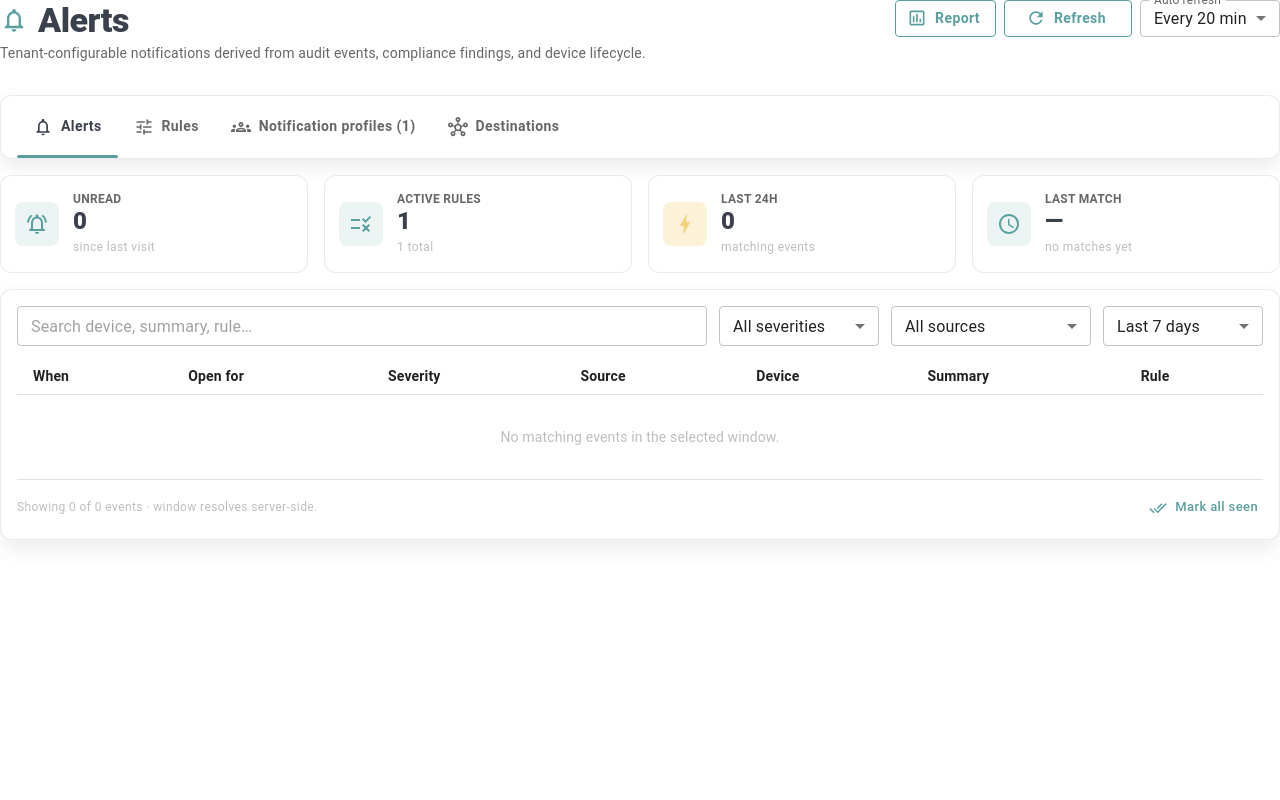
Test: Alerts — perfiles de notificaciones (ADR-0025) › ⚠️ un rol guardado que ya no existe se enseña marcado para quitarlo
Click the tab "Rules" at (166,127), box [118, 96, 215, 158]
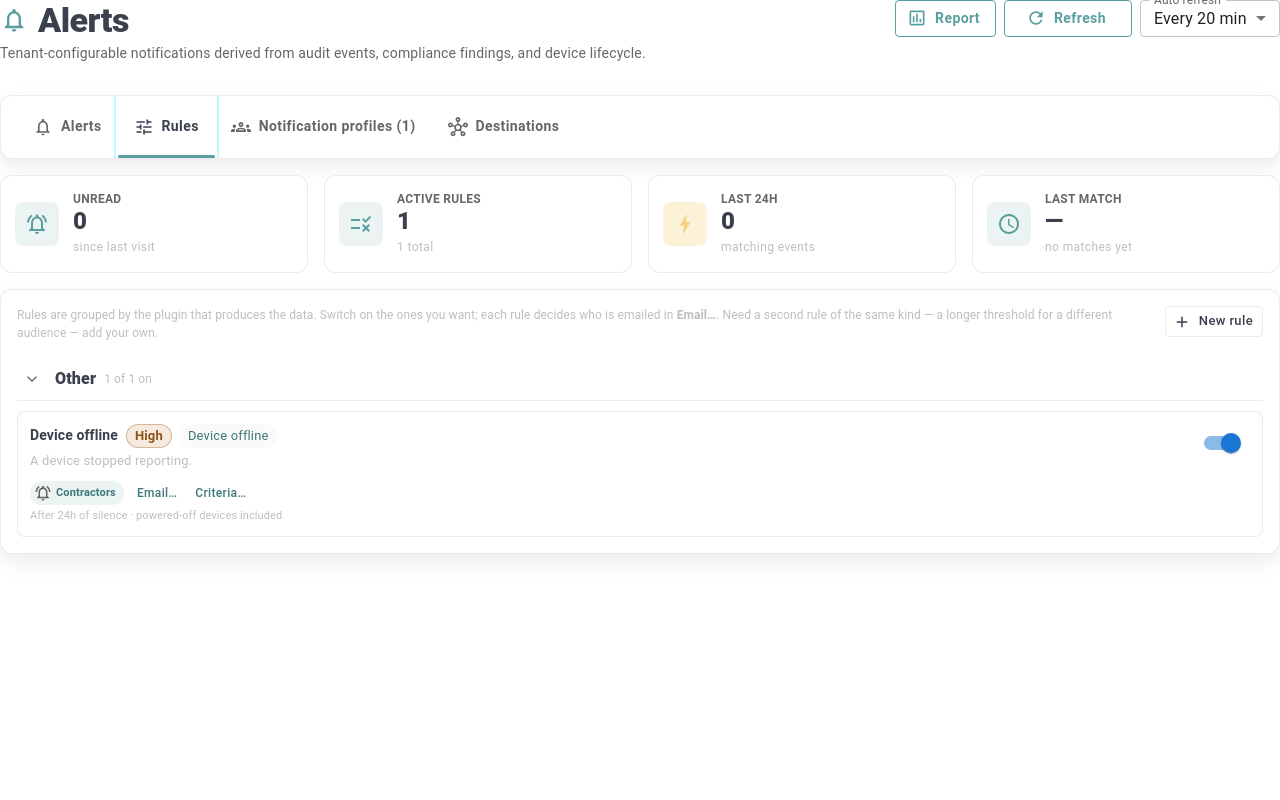
Click the button "Email…" at (157,493), box [132, 479, 182, 508]
(page scrolled)
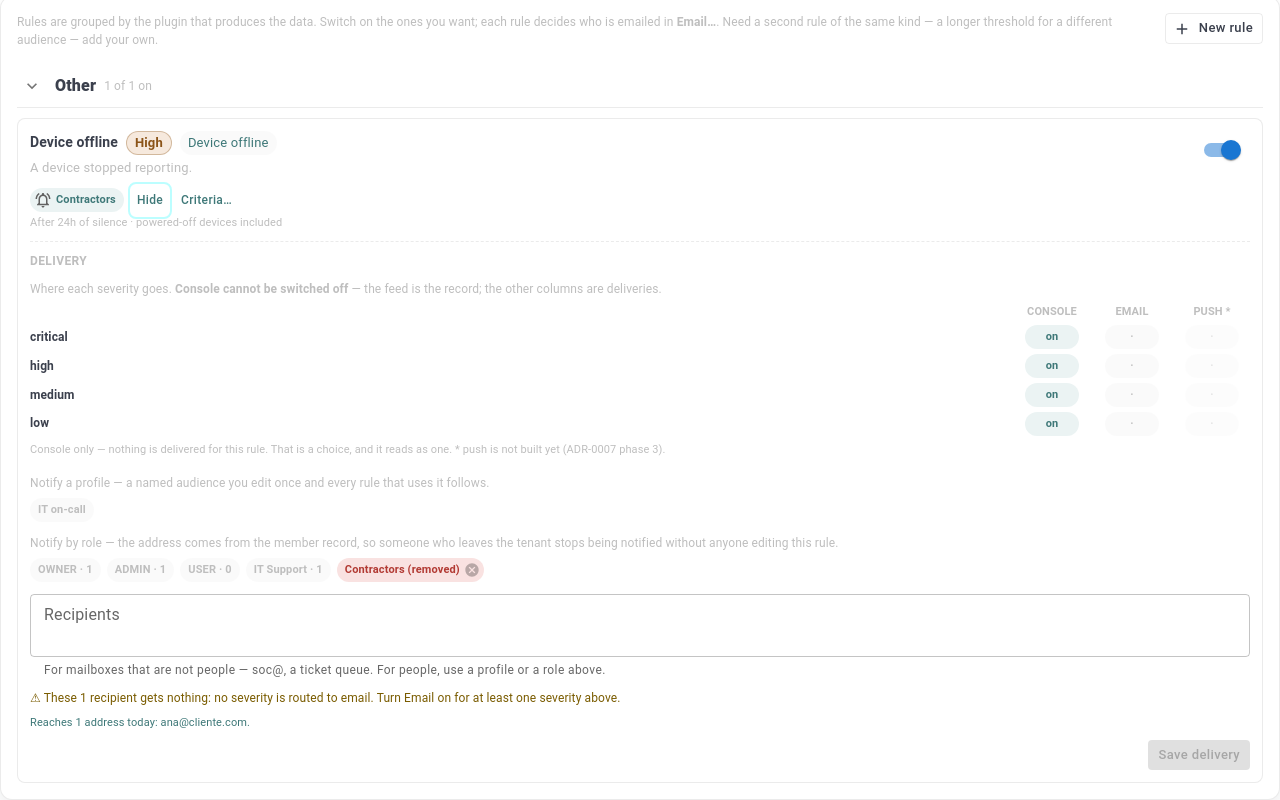
Expected: the text "Contractors (removed)" is shown, [337, 562, 468, 578]
